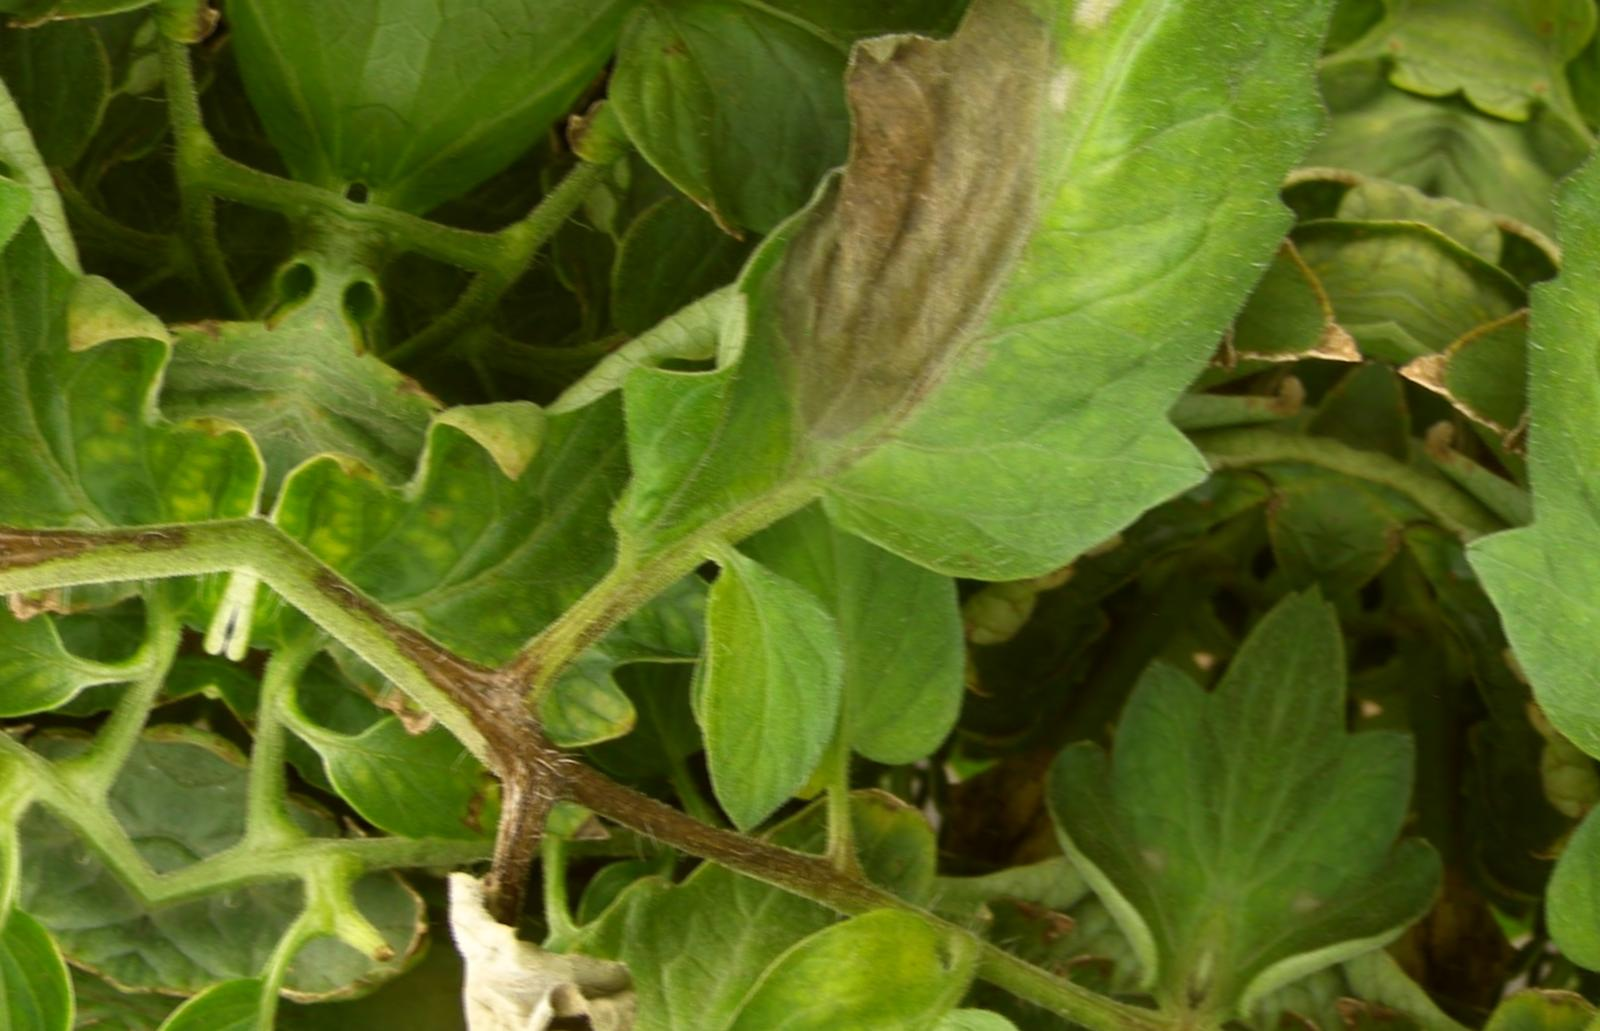Tomato mold leaf: (594, 0, 1400, 664), (625, 533, 889, 863)
